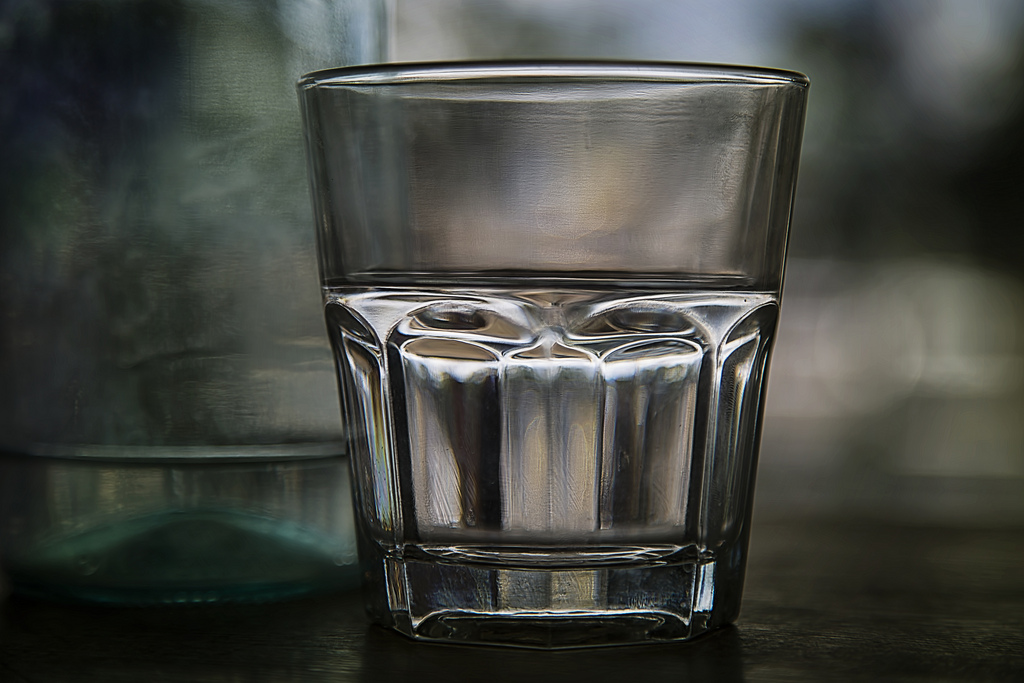glass of water: (306, 77, 791, 623)
